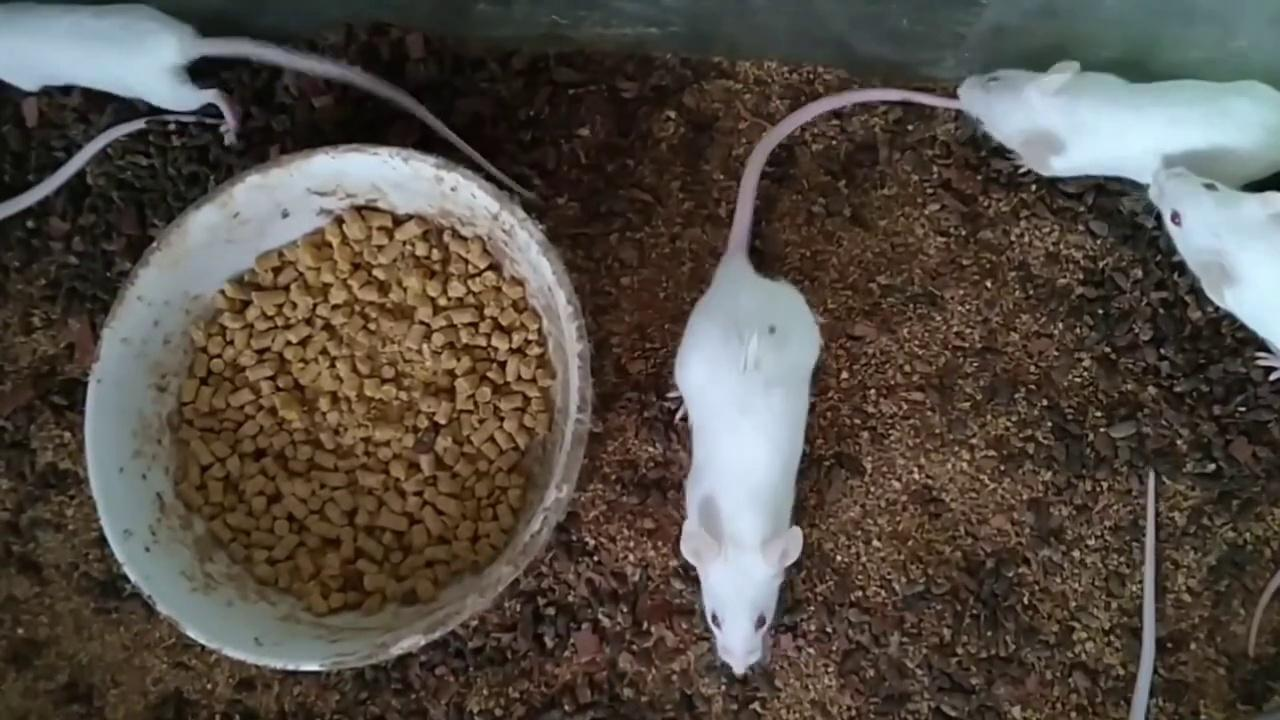rat: (674, 90, 972, 676), (2, 6, 530, 185), (957, 61, 1280, 190), (1150, 168, 1276, 372)
